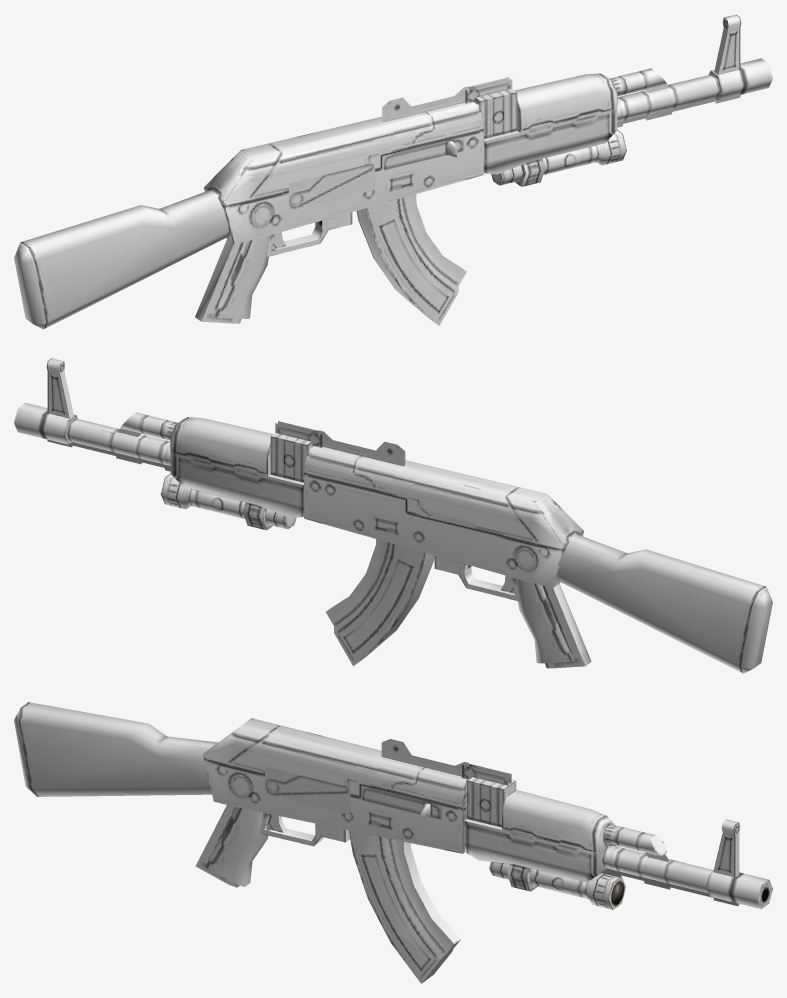
File: Weapon_AssaultRifle_Weapon_AssaultRifle_SkeletalMesh3_Weapon_AssaultRifle_SolidStock_LOD0.psk.glb
3 views of the same model, one above another, from view 1: azimuth 30°, elevation 25°; view 2: azimuth 150°, elevation 25°; view 3: azimuth 330°, elevation 25° (orthographic).
Bounding box in the file's own units: 78.7 × 23.02 × 5.11.
Materials: 1 (1 with a texture image).
